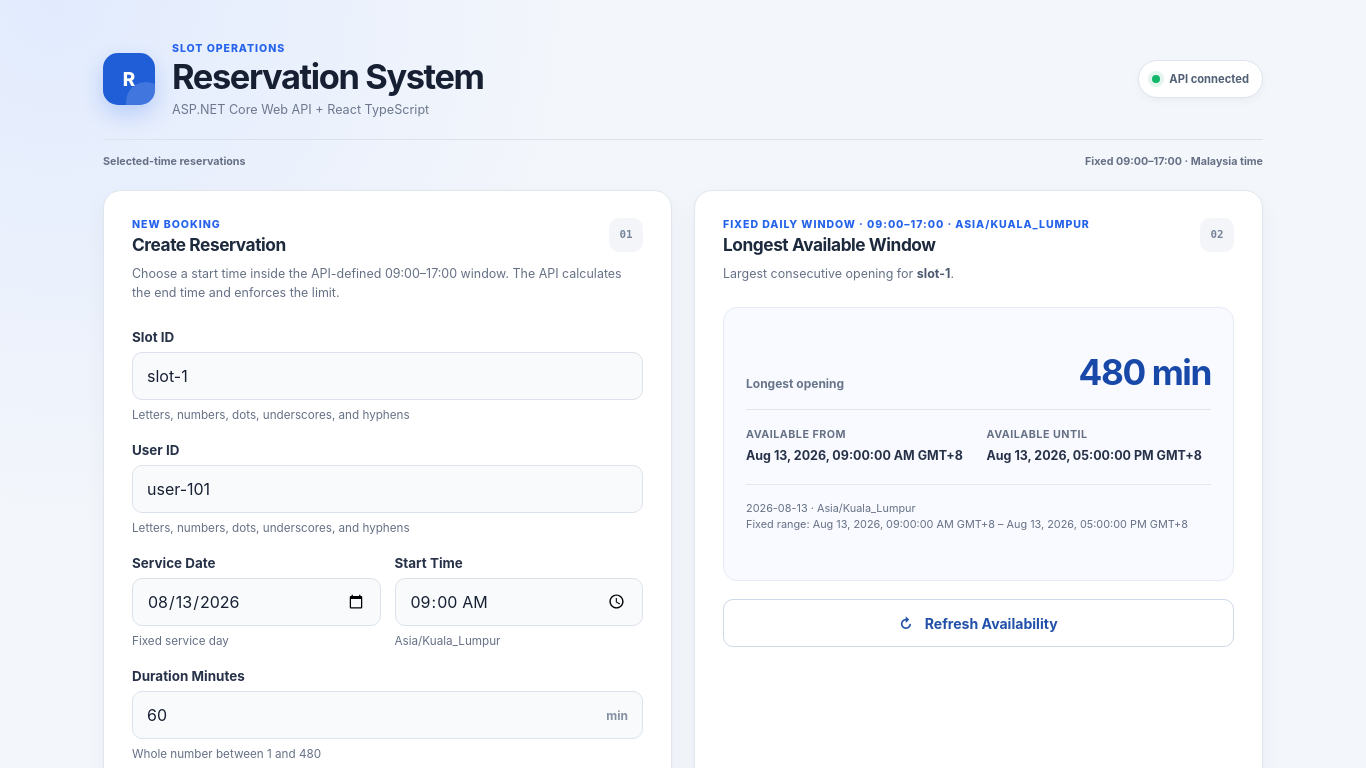
Test: ReservationPage › blocks an interval that would finish after 17:00
Replace the text in the time field labelled "Start Time" with "16:00" at [519, 602], box [394,578,643,626]
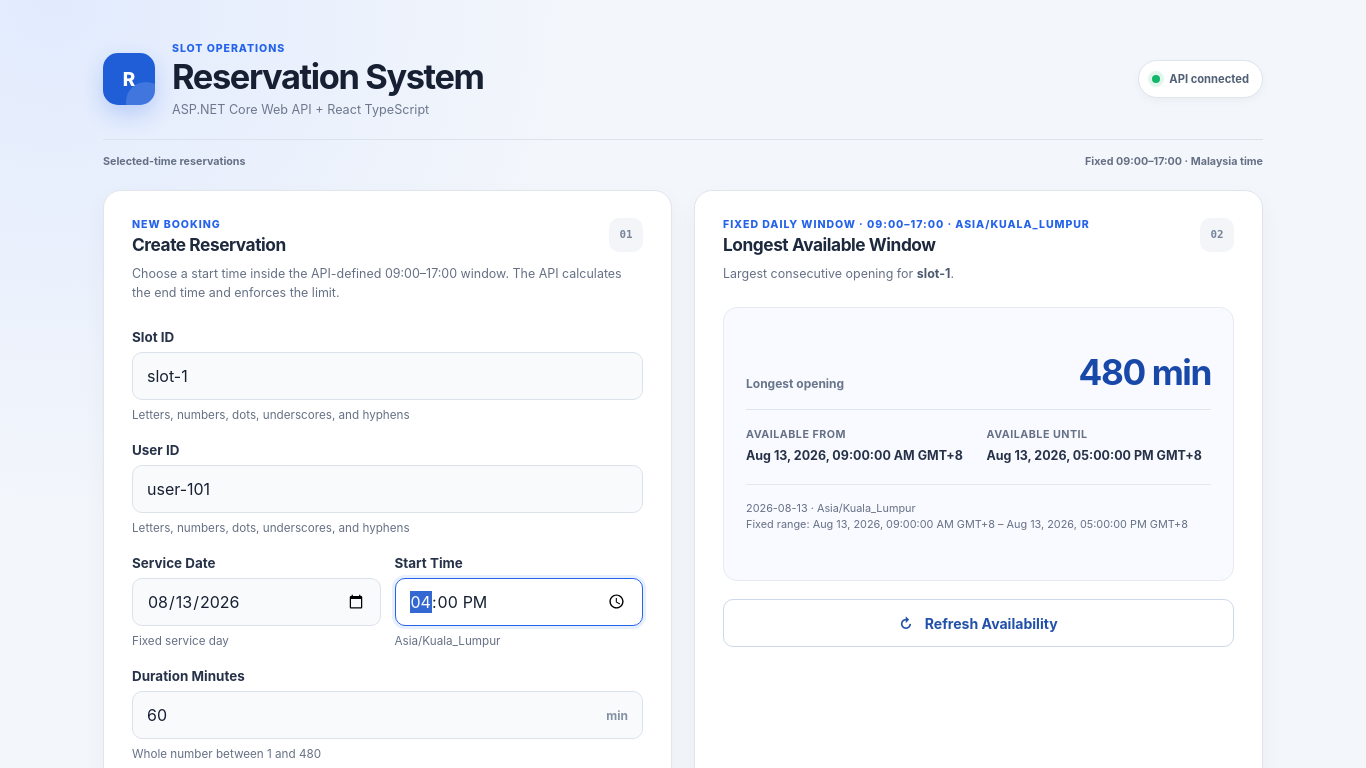
Type "120" into the number field labelled "Duration Minutes".
click(388, 715); type("120")  # box [132,691,643,739]
(page scrolled)
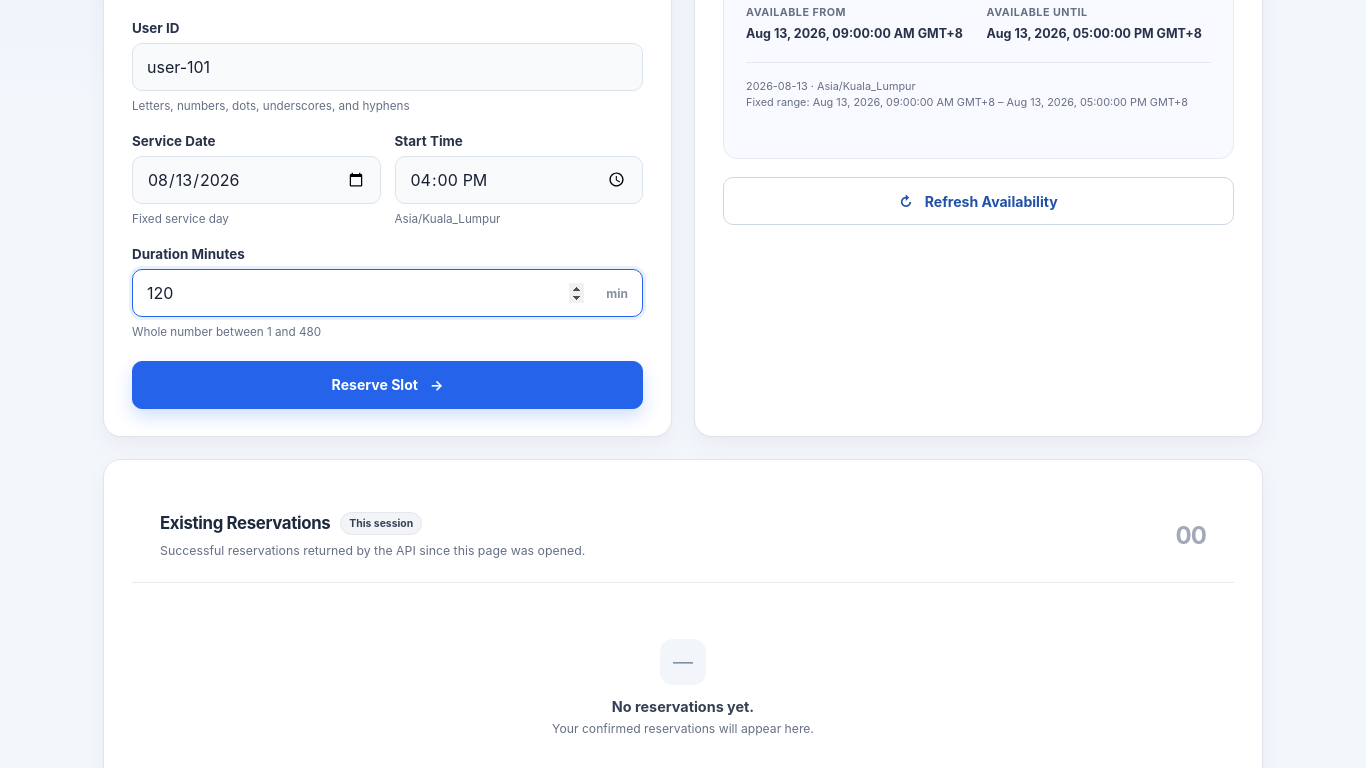
Click the button "Reserve Slot →".
click(388, 385)  # box [132,361,643,409]
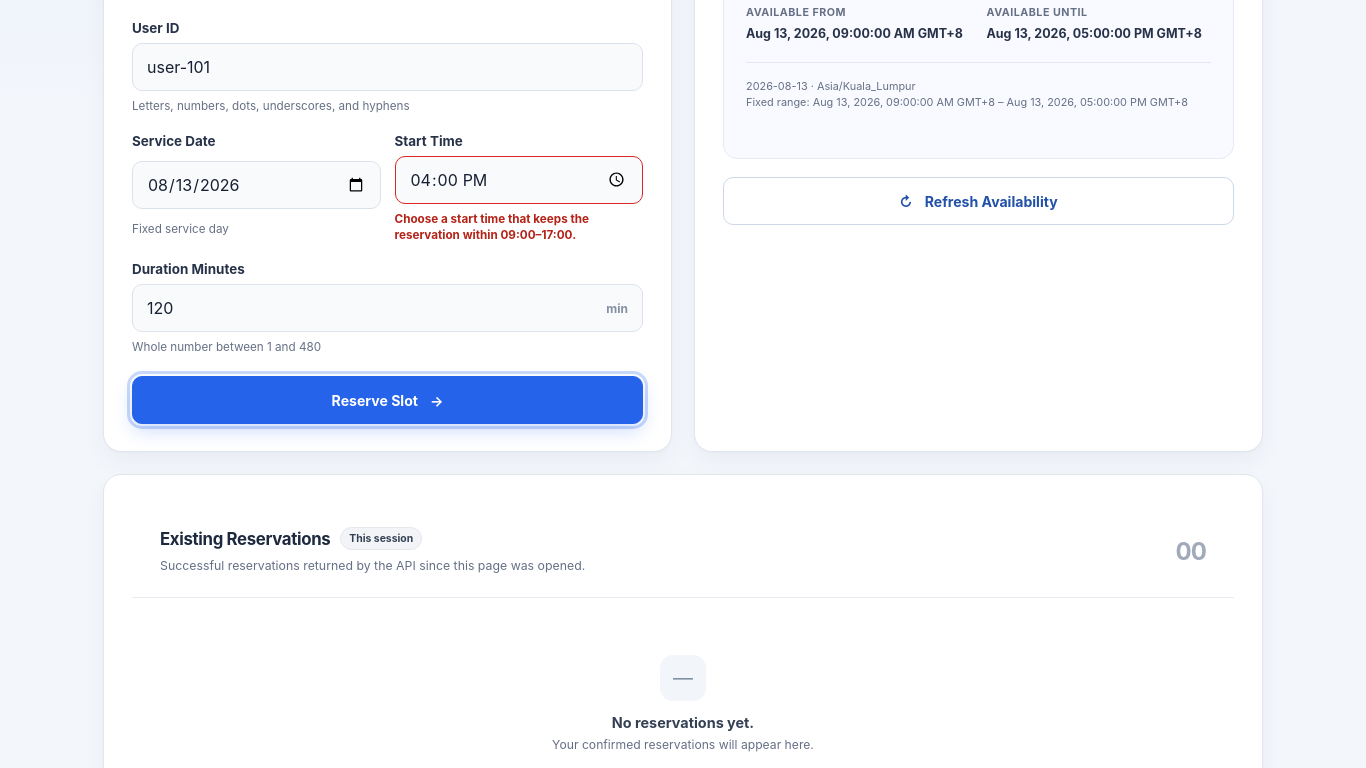
Expected: the text "Choose a start time that keeps the reservation within 09:00–17:00." is shown, [394,212,589,242]
